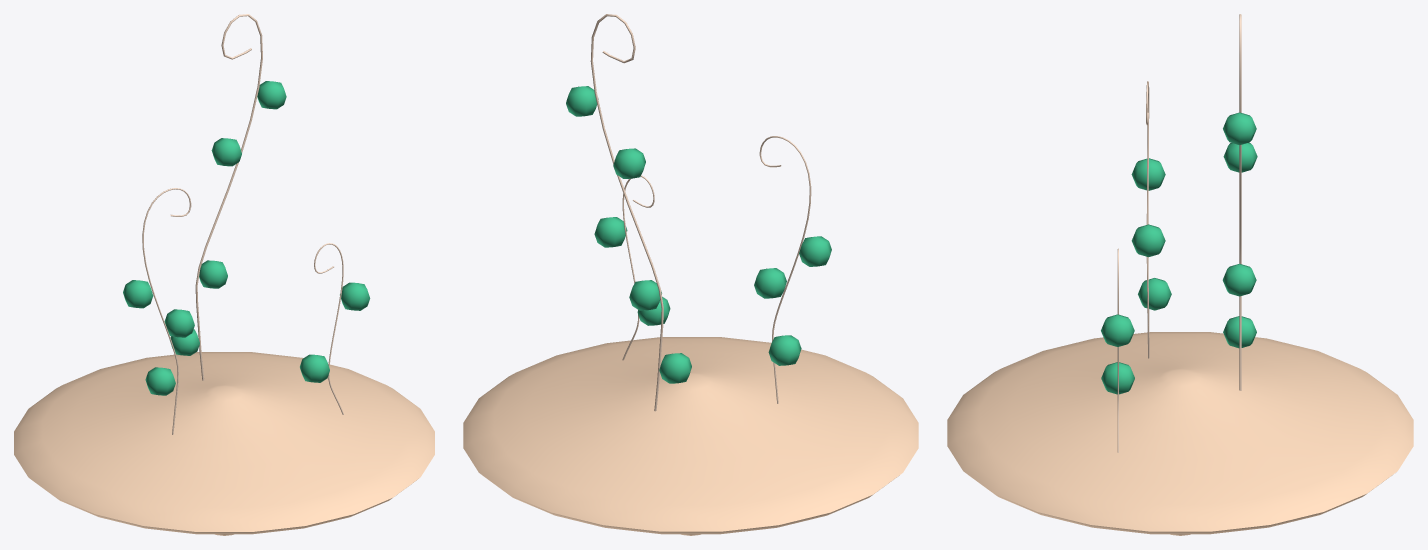
File: inviibility.fbx
3 views of the same model, side by side, from view 1: azimuth 30°, elevation 25°; view 2: azimuth 150°, elevation 25°; view 3: azimuth 270°, elevation 25° (orthographic). The views are drawn at different scales.
Visible parts, largest first — view 1: NurbsPath.002; view 2: NurbsPath.002; view 3: NurbsPath.002.
Part boxes in pixels (x1,y1,x2,y2): NurbsPath.002: [14, 14, 434, 535]; NurbsPath.002: [463, 14, 918, 535]; NurbsPath.002: [947, 14, 1413, 535].
Bounding box in the file's own units: 87.51 × 111 × 87.51.
